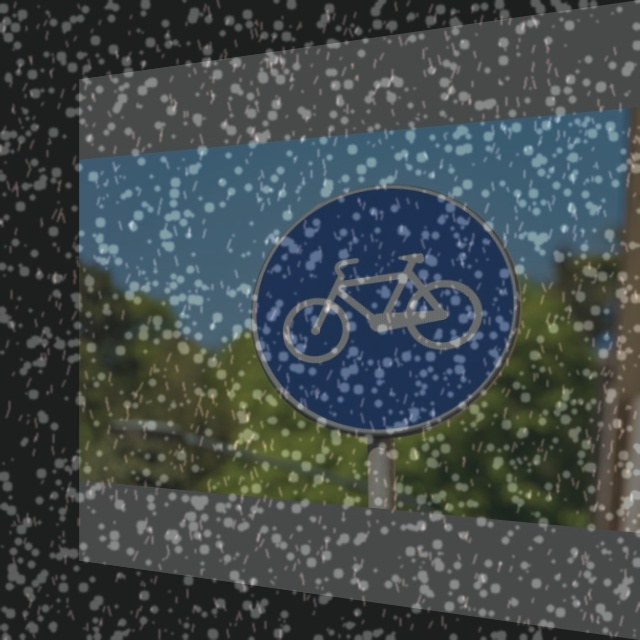Compulsory_Cycle_Track: (252, 175, 521, 447)
